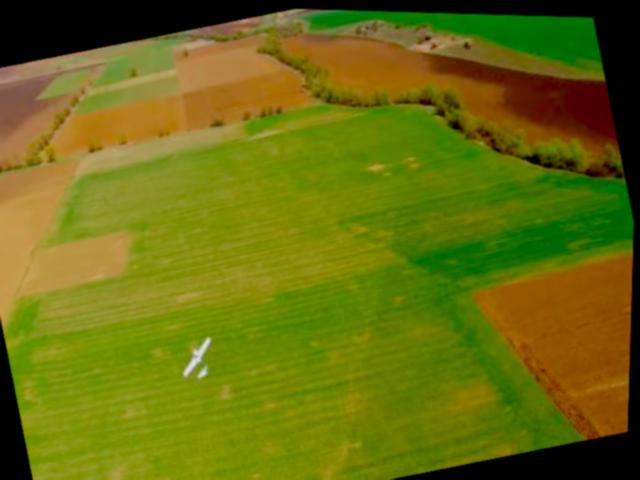uav: (174, 325, 226, 386)
